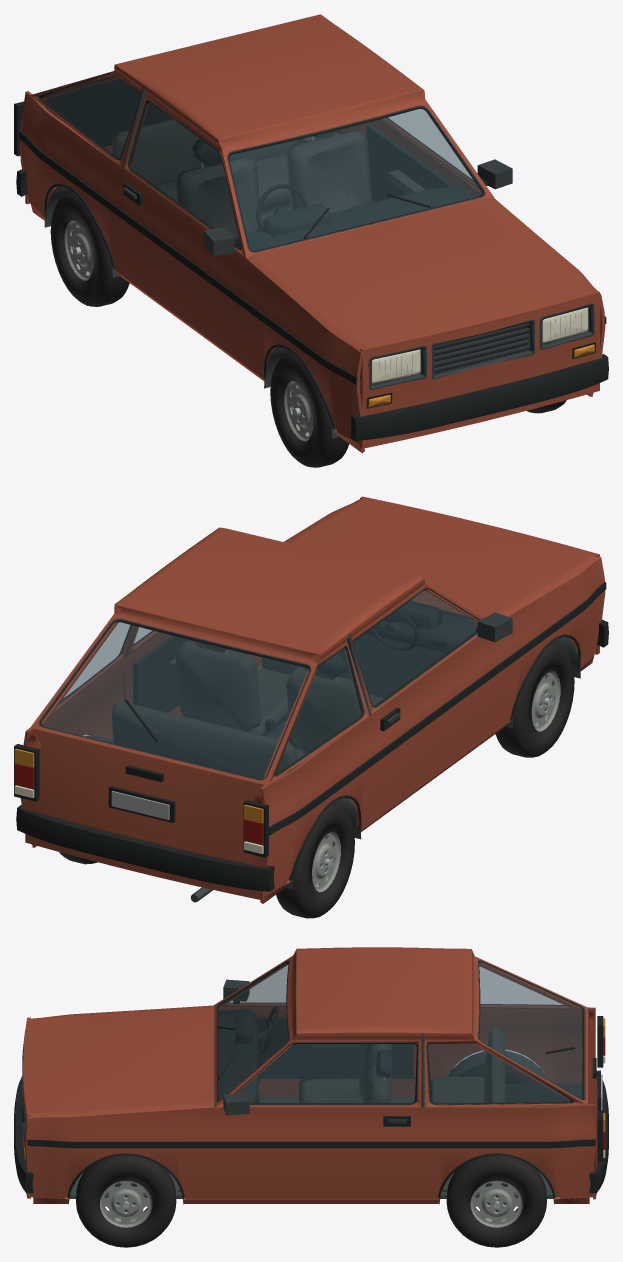
Rendered from tern.glb.
The picture shows the model from 3 angles, top to bottom: view 1: azimuth 30°, elevation 25°; view 2: azimuth 150°, elevation 25°; view 3: azimuth 270°, elevation 25°; orthographic projection. The views are drawn at different scales.
Visible parts, largest first — view 1: panel_hoodTern, glass_FrontTern, panel_RoofTern, panel_BodyDoorLTern, panel_FrontValanceTern, panel_FrontWingLTern, panel_RearWingLTern, glass_BodyDoorLTern, panel_bumper_frontTern, Interior Tern seat back 1, Interior Tern seat back -1, glass_QuarterTernL (+33 smaller); view 2: glass_TailgateTernRear, panel_RoofTern, panel_hoodTern, panel_TailgateTernSkin, panel_BodyDoorLTern, panel_RearWingLTern, glass_BodyDoorLTern, Interior Tern rear backrest, panel_bumper_rearTern, panel_FrontWingLTern, Interior Tern seat back 1, glass_QuarterTernL (+33 smaller); view 3: panel_hoodTern, panel_BodyDoorRTern, panel_RoofTern, panel_RearWingRTern, panel_FrontWingRTern, glass_BodyDoorRTern, glass_TailgateTernRear, panel_RearWingLTern, glass_FrontTern, glass_QuarterTernR, Tire_Tern_Carcass_FR, Tire_Tern_Carcass_RR (+43 smaller).
Part boxes in pixels (x1,y1,x2,y2): panel_hoodTern: (257, 198, 594, 348); glass_FrontTern: (229, 109, 481, 250); panel_RoofTern: (114, 14, 423, 143); panel_BodyDoorLTern: (118, 169, 247, 367); panel_FrontValanceTern: (360, 290, 600, 448); panel_FrontWingLTern: (240, 259, 362, 444); panel_RearWingLTern: (20, 91, 125, 277); glass_BodyDoorLTern: (131, 102, 240, 246); panel_bumper_frontTern: (350, 354, 608, 440); Interior Tern seat back 1: (286, 131, 371, 212); Interior Tern seat back -1: (175, 158, 260, 240); glass_QuarterTernL: (43, 75, 140, 157); glass_TailgateTernRear: (42, 622, 308, 778); panel_RoofTern: (115, 527, 424, 657); panel_hoodTern: (291, 497, 593, 617); panel_TailgateTernSkin: (32, 728, 264, 863); panel_BodyDoorLTern: (370, 636, 499, 823); panel_RearWingLTern: (260, 715, 376, 895); glass_BodyDoorLTern: (353, 590, 477, 705); Interior Tern rear backrest: (112, 701, 297, 778); panel_bumper_rearTern: (16, 805, 274, 891); panel_FrontWingLTern: (492, 557, 605, 733); Interior Tern seat back 1: (175, 640, 261, 731); glass_QuarterTernL: (276, 648, 360, 773); panel_hoodTern: (23, 1007, 213, 1112); panel_BodyDoorRTern: (214, 1107, 421, 1199); panel_RoofTern: (296, 947, 471, 1036); panel_RearWingRTern: (421, 1104, 595, 1199); panel_FrontWingRTern: (27, 1107, 213, 1199); glass_BodyDoorRTern: (237, 1044, 416, 1102); glass_TailgateTernRear: (479, 963, 582, 1098); panel_RearWingLTern: (421, 1007, 595, 1084); glass_FrontTern: (219, 963, 288, 1099); glass_QuarterTernR: (427, 1043, 569, 1103); Tire_Tern_Carcass_FR: (76, 1155, 176, 1247); Tire_Tern_Carcass_RR: (446, 1155, 546, 1247).
Size of the model in its own units: 1.85 by 1.49 by 3.79.
